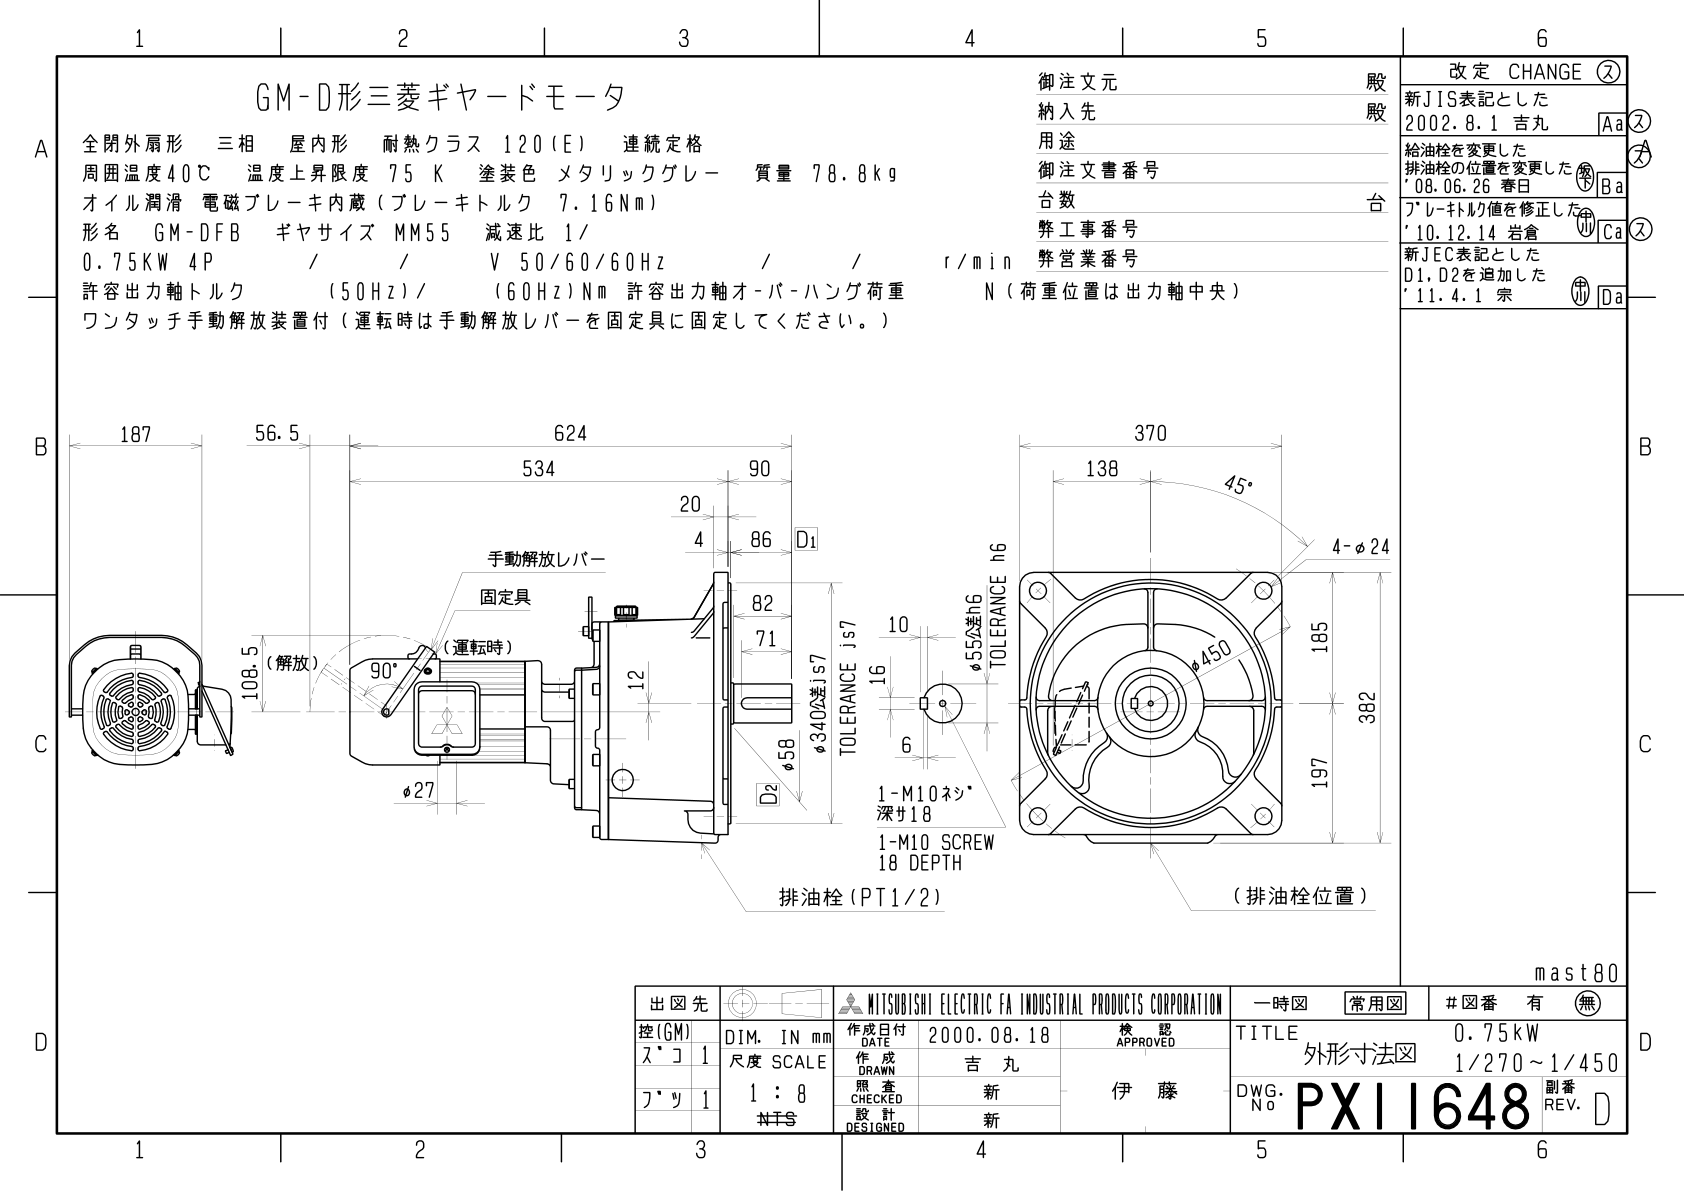GM_D_手動解放ブレーキ＿三相_フランジ: (61, 360, 1399, 967)
